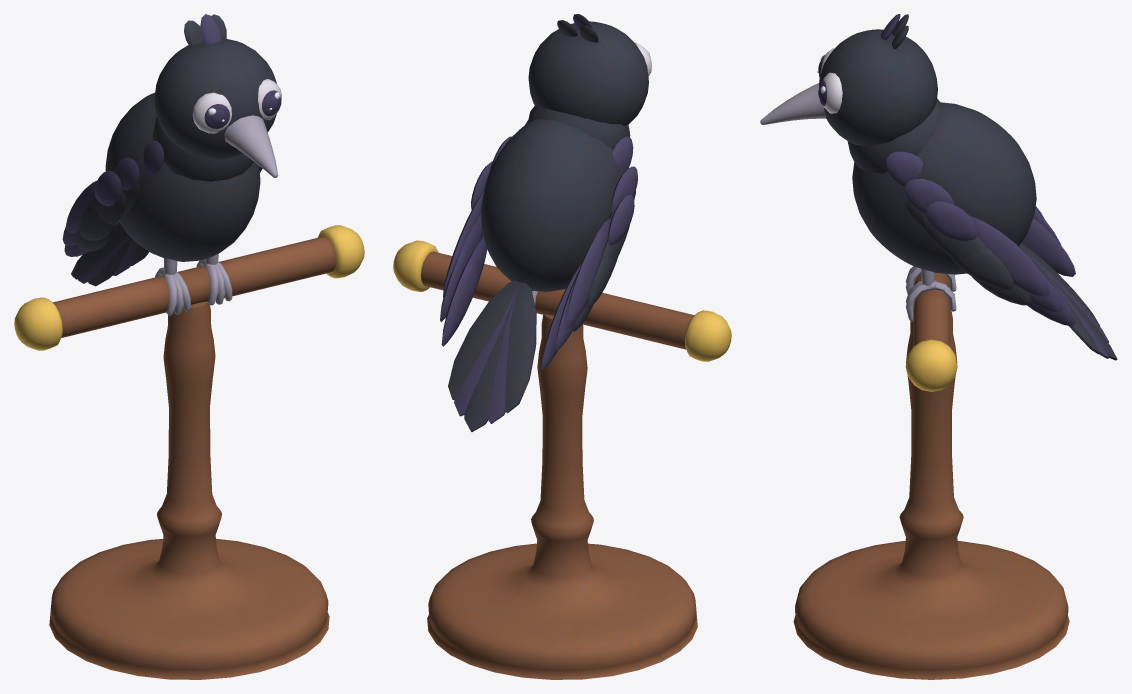
The model's file is cuervo.glb.
The picture shows the model from 3 angles, left to right: view 1: azimuth 30°, elevation 25°; view 2: azimuth 150°, elevation 25°; view 3: azimuth 270°, elevation 25°; orthographic projection. The views are drawn at different scales.
Parts seen in each view (by area): view 1: crow-on-perch_body; view 2: crow-on-perch_body; view 3: crow-on-perch_body.
Part boxes in pixels (x1,y1,x2,y2): crow-on-perch_body: (14, 14, 364, 679); crow-on-perch_body: (393, 14, 731, 679); crow-on-perch_body: (760, 14, 1117, 679).
Size of the model in its own units: 0.362 by 0.6303 by 0.3346.
Materials: 1 (1 with a texture image).
